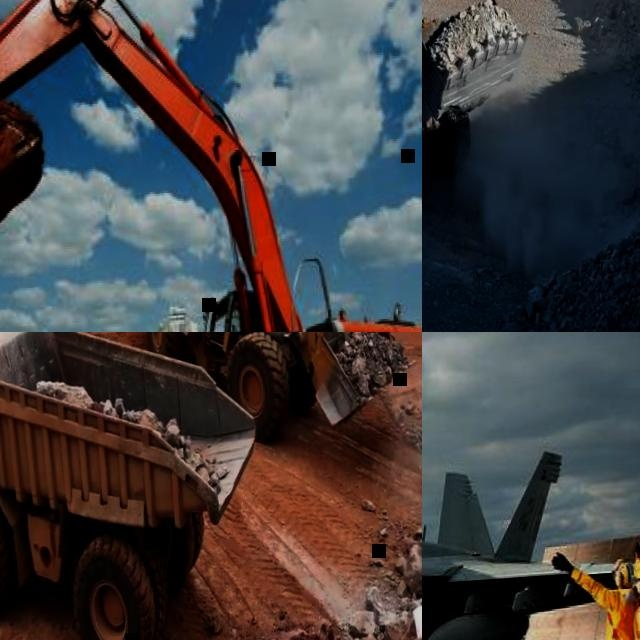Hardhat: (611, 557, 636, 588), (630, 562, 640, 594)
Person: (548, 537, 640, 640)
Safety Vest: (599, 583, 640, 640)
machinery: (0, 0, 422, 332), (0, 332, 274, 640), (121, 332, 422, 456), (422, 0, 541, 209)
